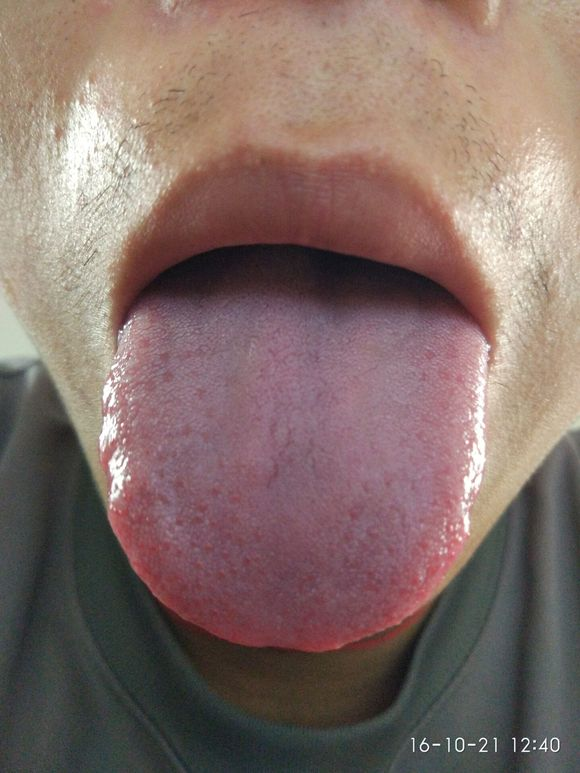hongshe: (97, 244, 487, 651)
